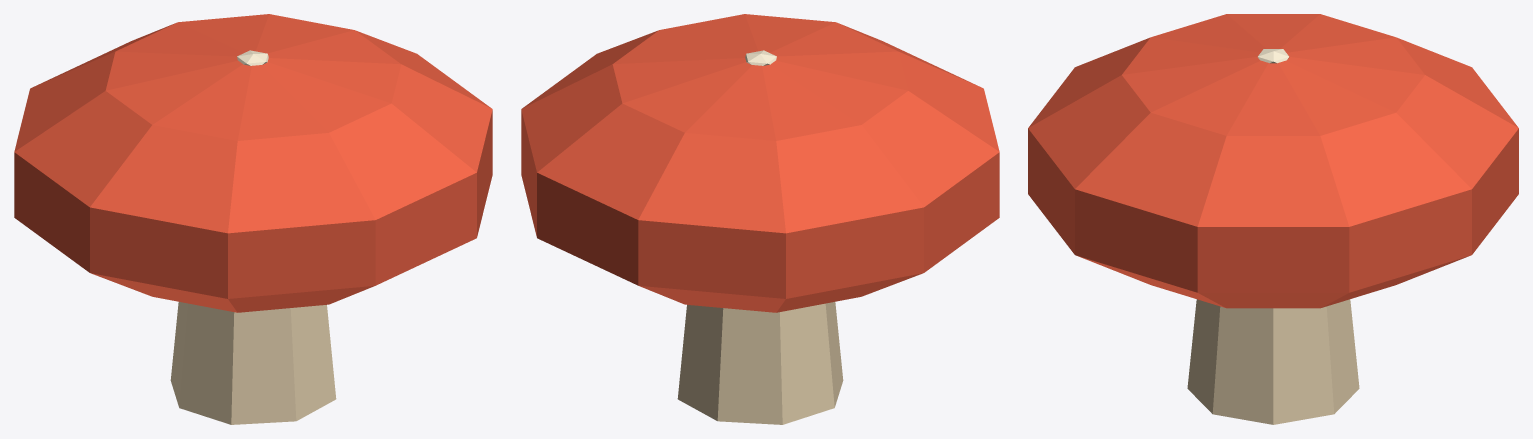
Rendered from red-mushroom.glb.
The picture shows the model from 3 angles, left to right: view 1: azimuth 30°, elevation 25°; view 2: azimuth 150°, elevation 25°; view 3: azimuth 270°, elevation 25°; orthographic projection.
Visible parts, largest first — view 1: Mushroom cap, Mushroom stalk; view 2: Mushroom cap, Mushroom stalk; view 3: Mushroom cap, Mushroom stalk.
Part boxes in pixels (bbox=[...]): Mushroom cap: bbox=[14, 14, 492, 312]; Mushroom stalk: bbox=[170, 302, 336, 424]; Mushroom cap: bbox=[521, 14, 999, 312]; Mushroom stalk: bbox=[677, 302, 843, 424]; Mushroom cap: bbox=[1028, 14, 1518, 308]; Mushroom stalk: bbox=[1187, 299, 1359, 424].
Bounding box in the file's own units: 0.3256 × 0.2595 × 0.3424.
